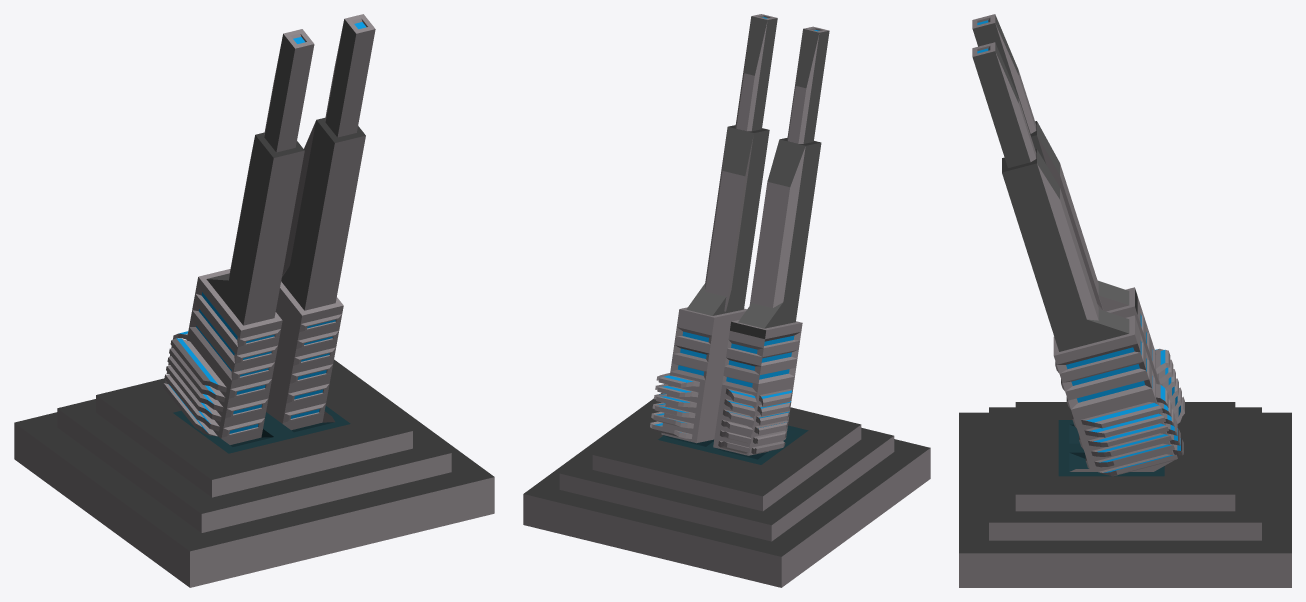
File: laser 1.fbx
The picture shows the model from 3 angles, left to right: view 1: azimuth 30°, elevation 25°; view 2: azimuth 150°, elevation 25°; view 3: azimuth 270°, elevation 25°; orthographic projection. The views are drawn at different scales.
Parts seen in each view (by area): view 1: Cube; view 2: Cube; view 3: Cube.
Boxes of the visible parts, <box> form: Cube: <box>14,14,494,587</box>; Cube: <box>523,14,930,587</box>; Cube: <box>959,14,1291,587</box>.
Size of the model in its own units: 200 by 322 by 200.
